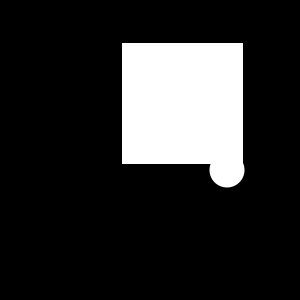circle: (122, 43, 243, 164)
rectangle: (210, 152, 245, 188)
